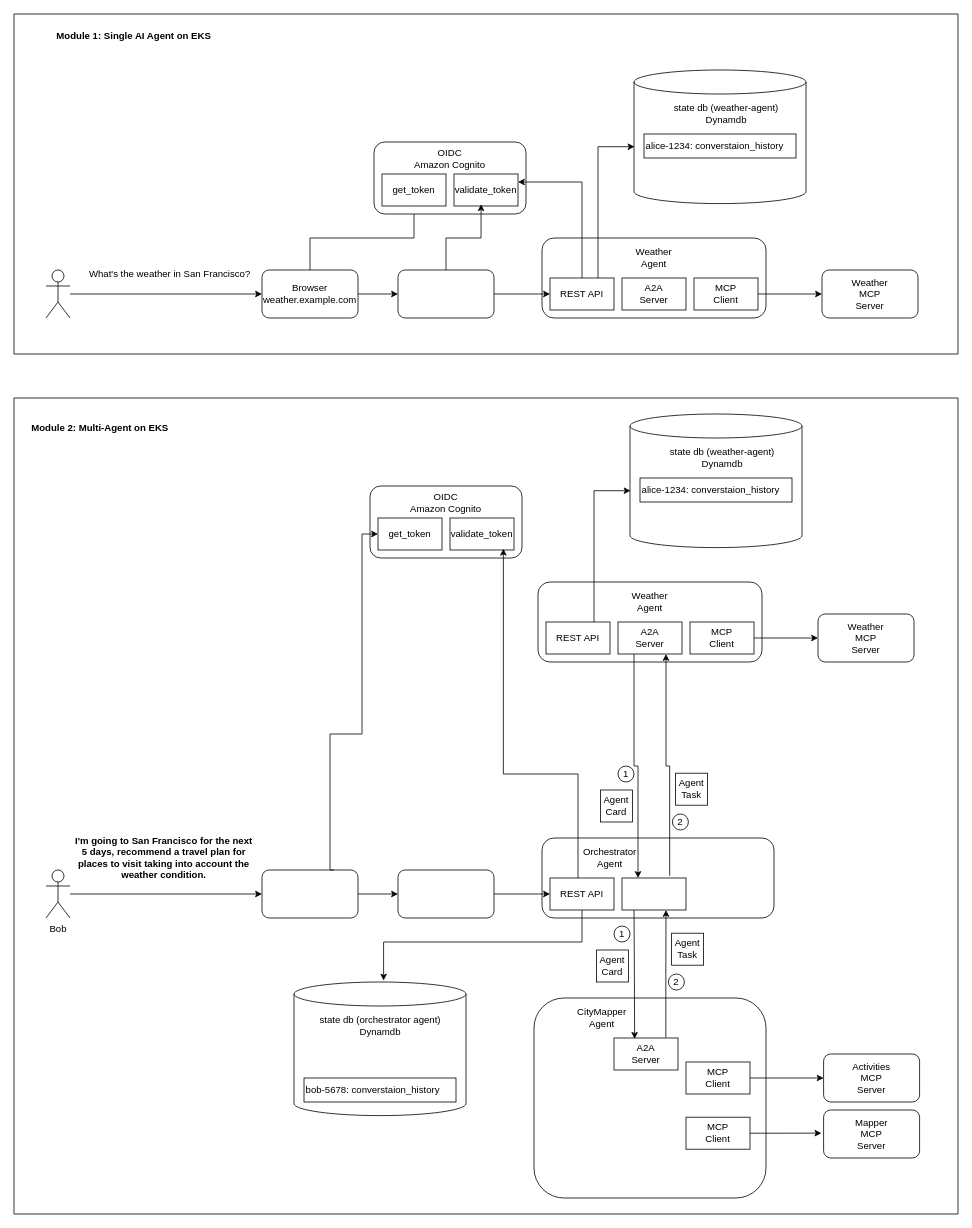
This 972x1228 diagram has some shape labels left out. Here are the shapes that lost their labels. From the top down, the box of each, then its label:
(45, 269, 70, 318): Alice
(397, 269, 494, 318): Weather Frontend gradio
(261, 869, 358, 918): Browser travel.example.com
(397, 869, 494, 918): Travel Frontend gradio
(621, 877, 686, 910): A2A Client
